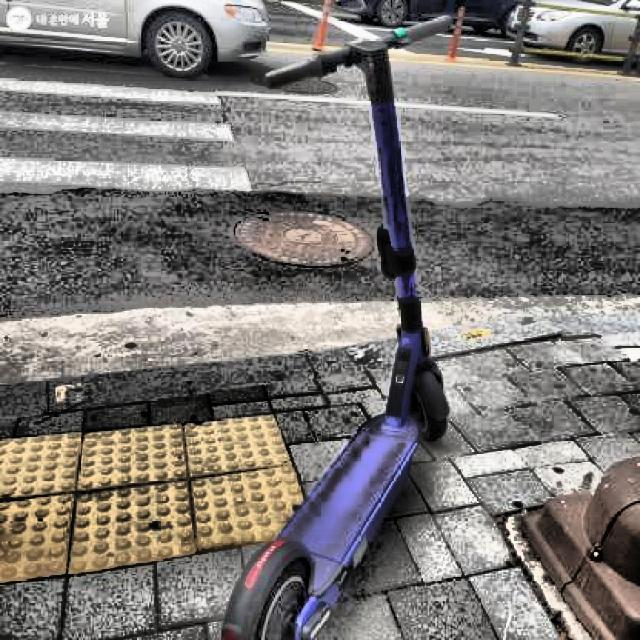bike: (213, 12, 455, 640)
car: (0, 0, 273, 79), (504, 0, 640, 61)
traffic cone: (311, 0, 336, 52)
